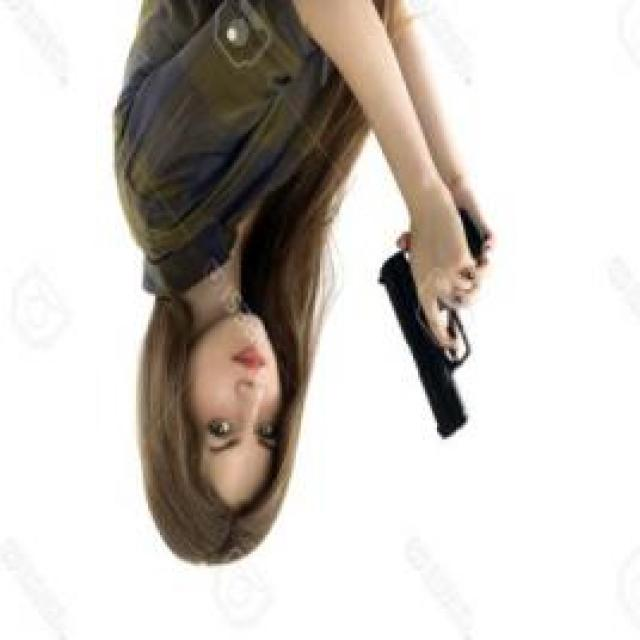pistol: (368, 192, 488, 444)
